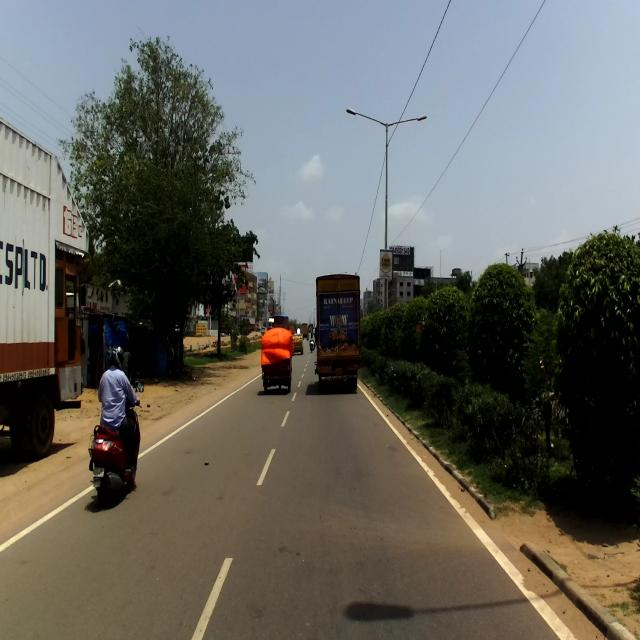autorickshaw: (260, 326, 295, 390)
scooter: (88, 381, 145, 509)
truck: (0, 113, 90, 460), (314, 273, 362, 395)
